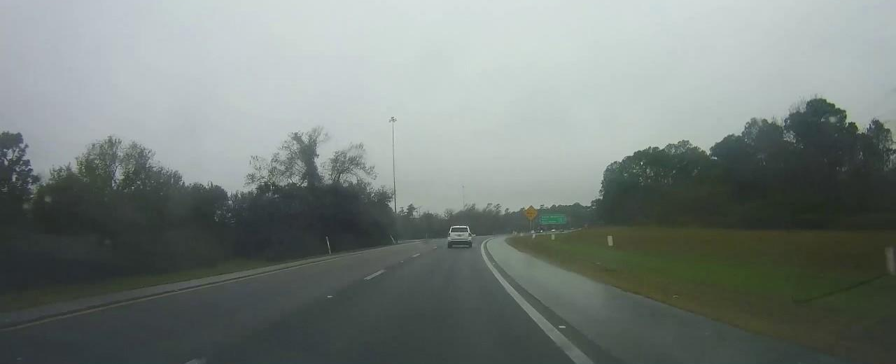car: (447, 225, 476, 250)
